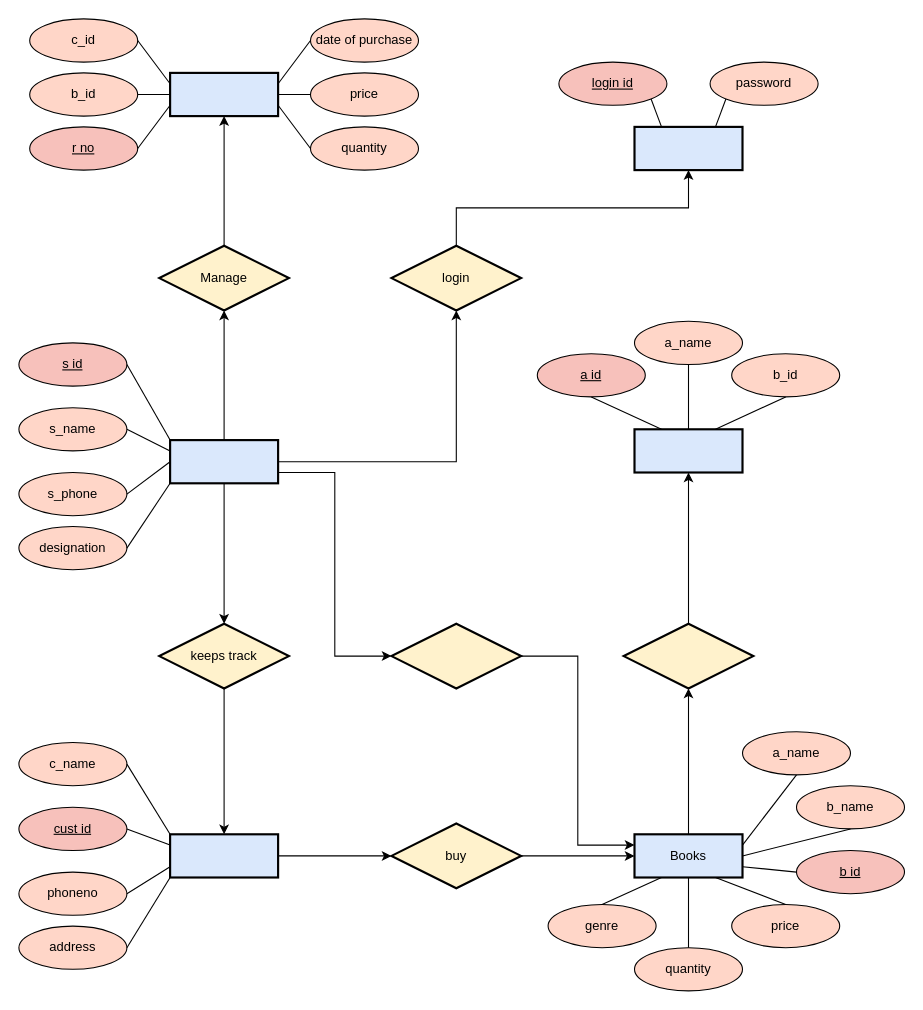
Image size: 923x1010. Some labels were removed from this diagram. The shapes that lost their labels are listed below. From the top down, each one's box as (x1, y1, x2, y2) in pixels, then its label:
(168, 71, 279, 117): Reports
(633, 125, 743, 171): Authentication System
(168, 438, 279, 484): Staff
(633, 428, 743, 473): Author
(390, 622, 522, 689): maintains
(622, 622, 754, 689): written by
(168, 833, 279, 878): Customer
